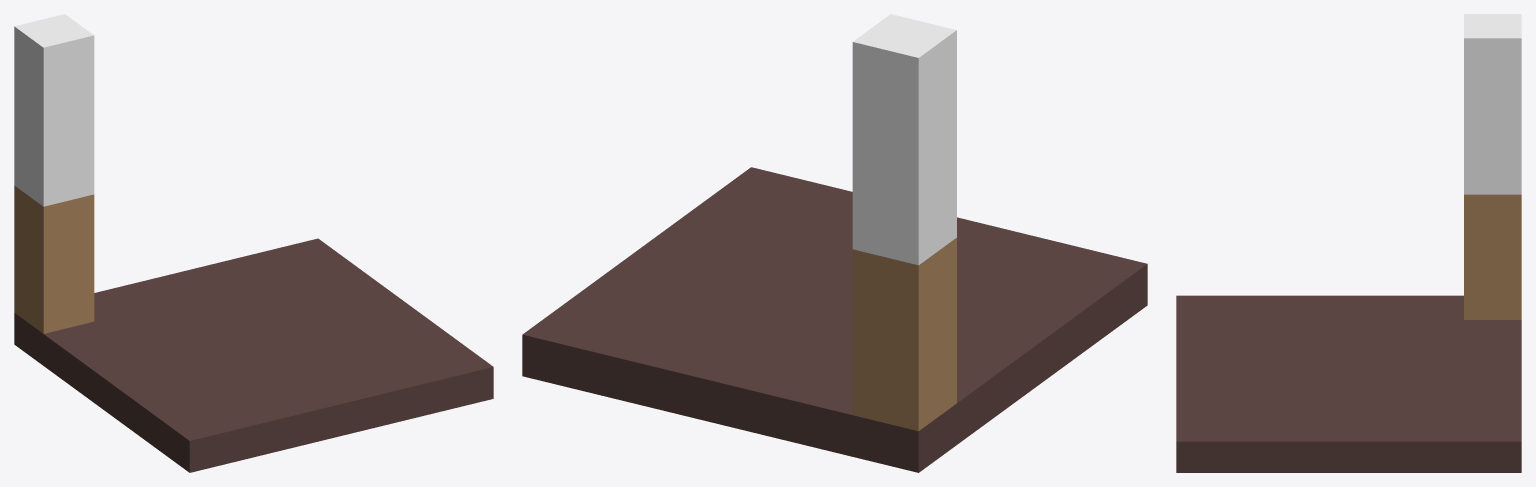
Rendered from floor_corner_1.FBX.
3 views of the same model, side by side, from view 1: azimuth 30°, elevation 25°; view 2: azimuth 150°, elevation 25°; view 3: azimuth 270°, elevation 25° (orthographic). The views are drawn at different scales.
Parts seen in each view (by area): view 1: Object268; view 2: Object268; view 3: Object268.
Boxes of the visible parts, bbox=[...] form: Object268: bbox=[14, 14, 493, 472]; Object268: bbox=[522, 14, 1147, 472]; Object268: bbox=[1176, 14, 1521, 472].
Size of the model in its own units: 100 by 100 by 100.
